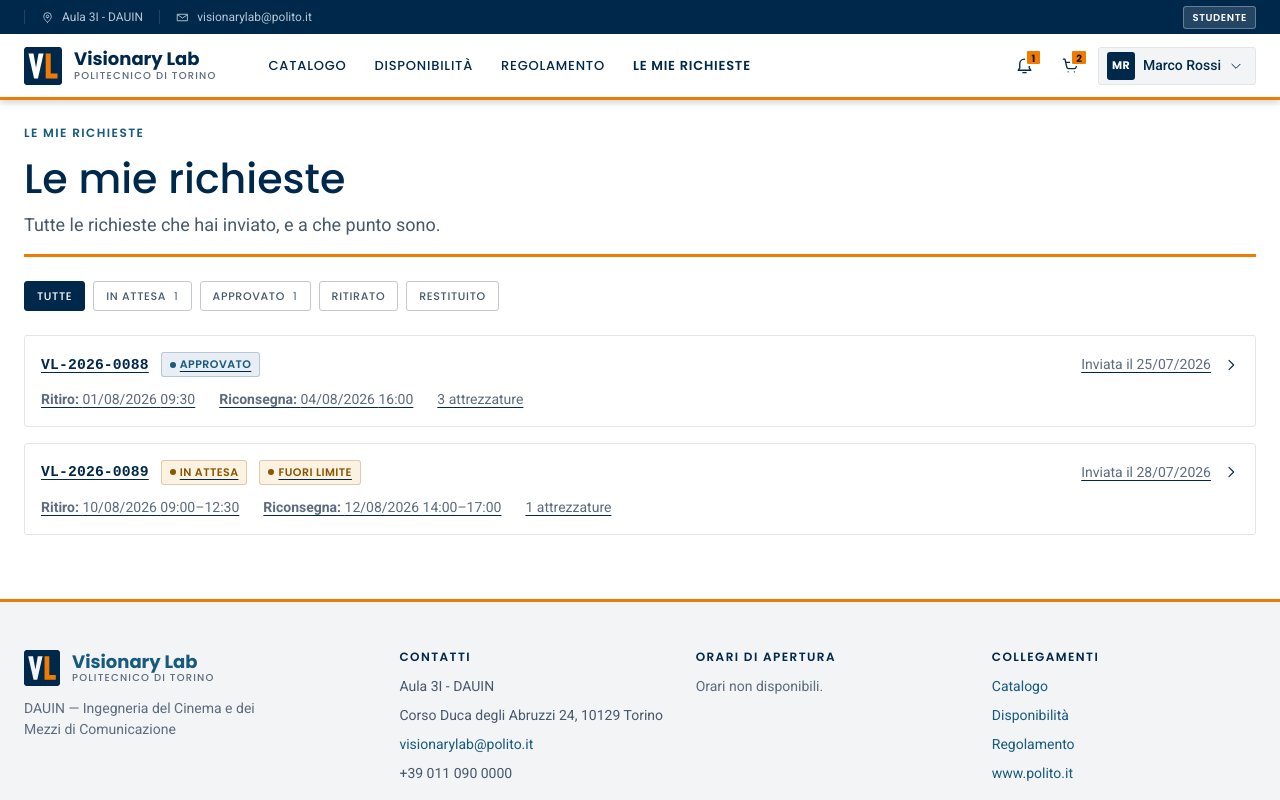
Test: MyOrdersPage › filters by status chip
The width and height of the screenshot is (1280, 800).
Expected: the text "VL-2026-0088" is shown, [41, 354, 149, 376]
Step 1. Click the button "In attesa 1" → click(142, 296), box [93, 281, 192, 311]
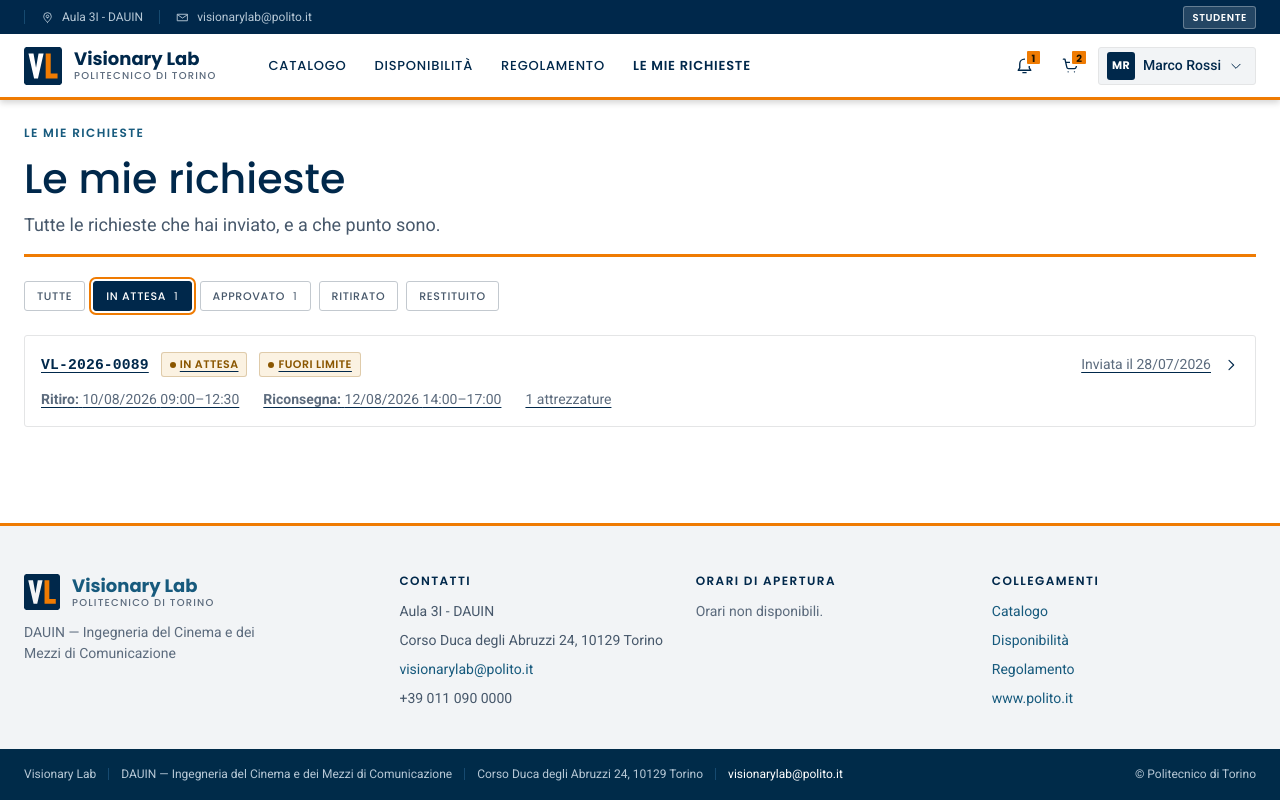
Expected: the text "VL-2026-0089" is shown, [41, 354, 149, 376]
Expected: the link "VL-2026-0088" is gone
